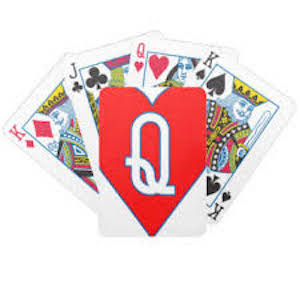JackOfClubs: (56, 41, 133, 180)
KingOfDiamonds: (1, 72, 76, 199)
KingOfSpades: (190, 46, 296, 232)
QueenOfHearts: (125, 29, 197, 95)
